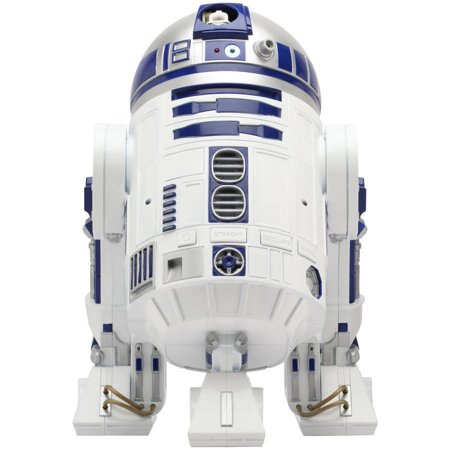r2d2: (77, 3, 378, 444)
